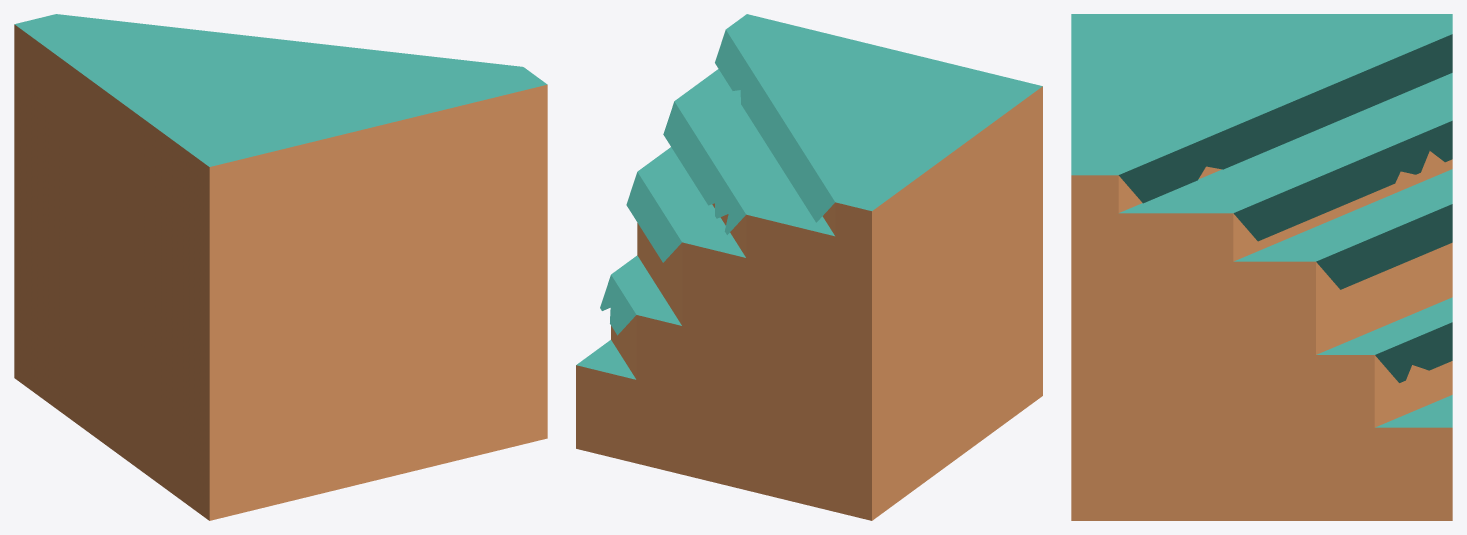
File: cliffBrown_stepsCornerInner.obj
3 views of the same model, side by side, from view 1: azimuth 30°, elevation 25°; view 2: azimuth 150°, elevation 25°; view 3: azimuth 270°, elevation 25° (orthographic). The views are drawn at different scales.
Parts seen in each view (by area): view 1: cliffBrown_stepsCornerInner; view 2: cliffBrown_stepsCornerInner; view 3: cliffBrown_stepsCornerInner.
Part boxes in pixels (x1,y1,x2,y2): cliffBrown_stepsCornerInner: (14, 14, 547, 520); cliffBrown_stepsCornerInner: (576, 14, 1042, 520); cliffBrown_stepsCornerInner: (1071, 14, 1452, 520).
Bounding box in the file's own units: 10 × 10 × 10.
